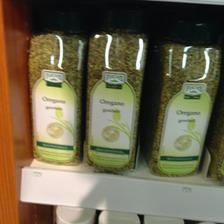Gewuerze: (148, 34, 220, 176), (82, 20, 146, 172), (28, 31, 84, 166)
